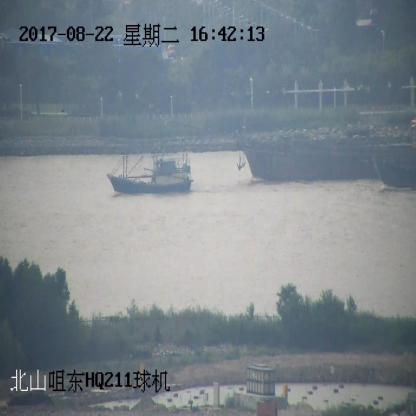Fishing Boat: (106, 152, 191, 194), (371, 155, 416, 189)
